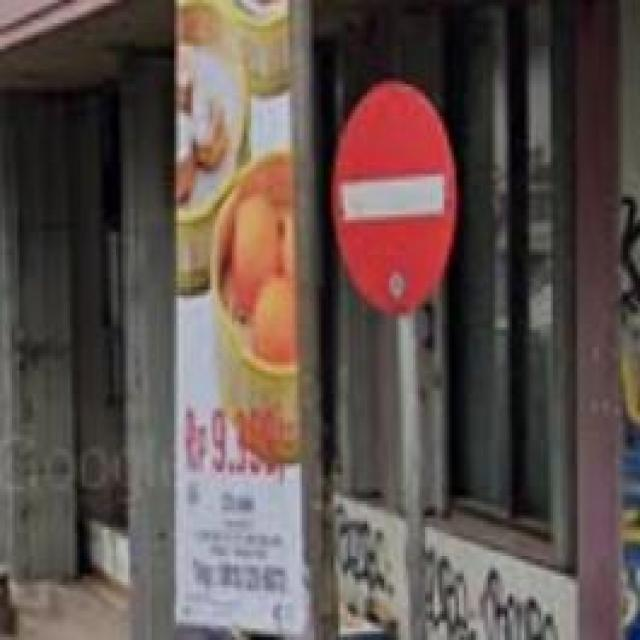traffic sign: (331, 81, 456, 316)
